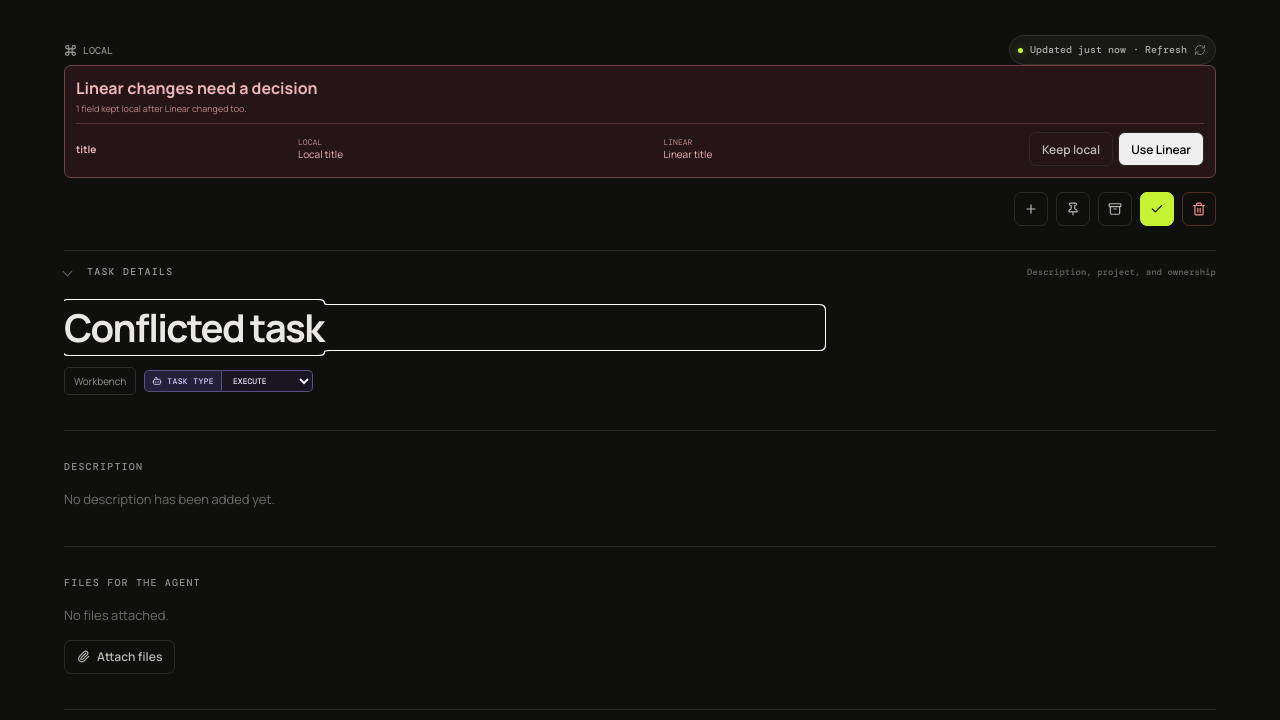
Test case: WCAG AA: focus after asynchronous task actions › announces and refocuses the task heading after resolving a Linear sync conflict
Click the button "Keep local" at (1071, 149), box [1029,132,1113,166]
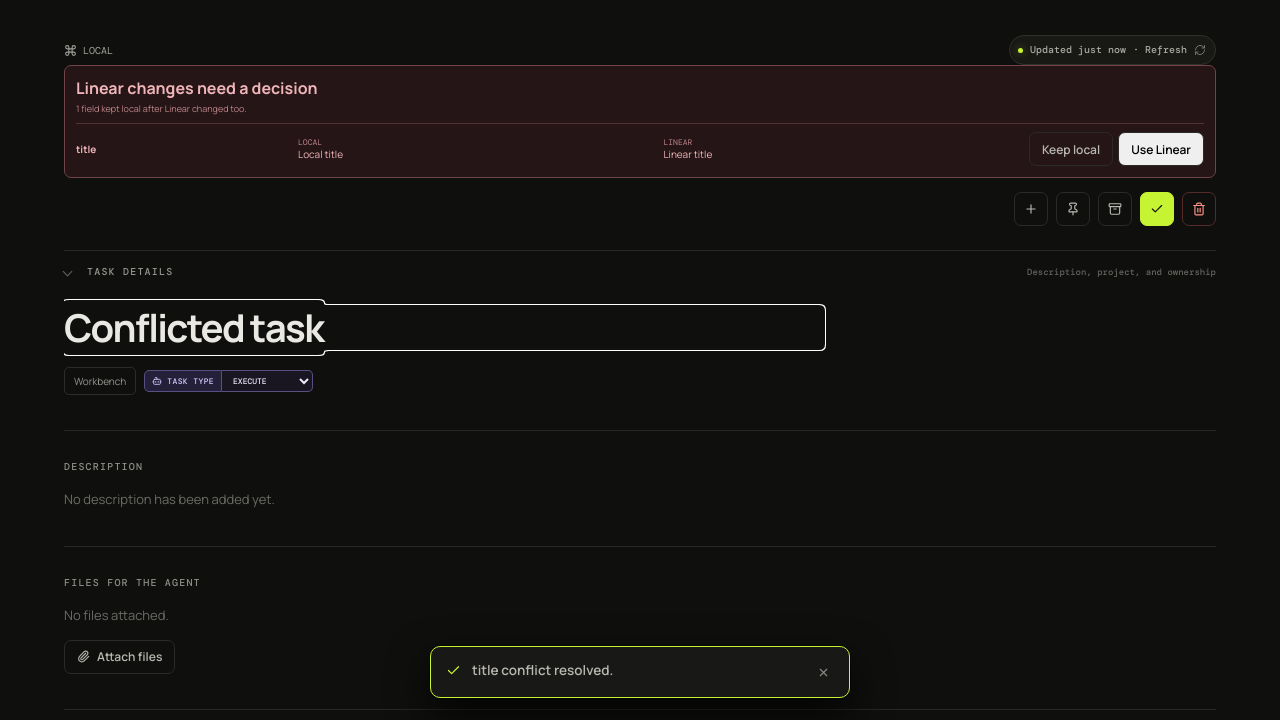
Expected: the text "title conflict resolved." is shown, [472,661,613,679]
